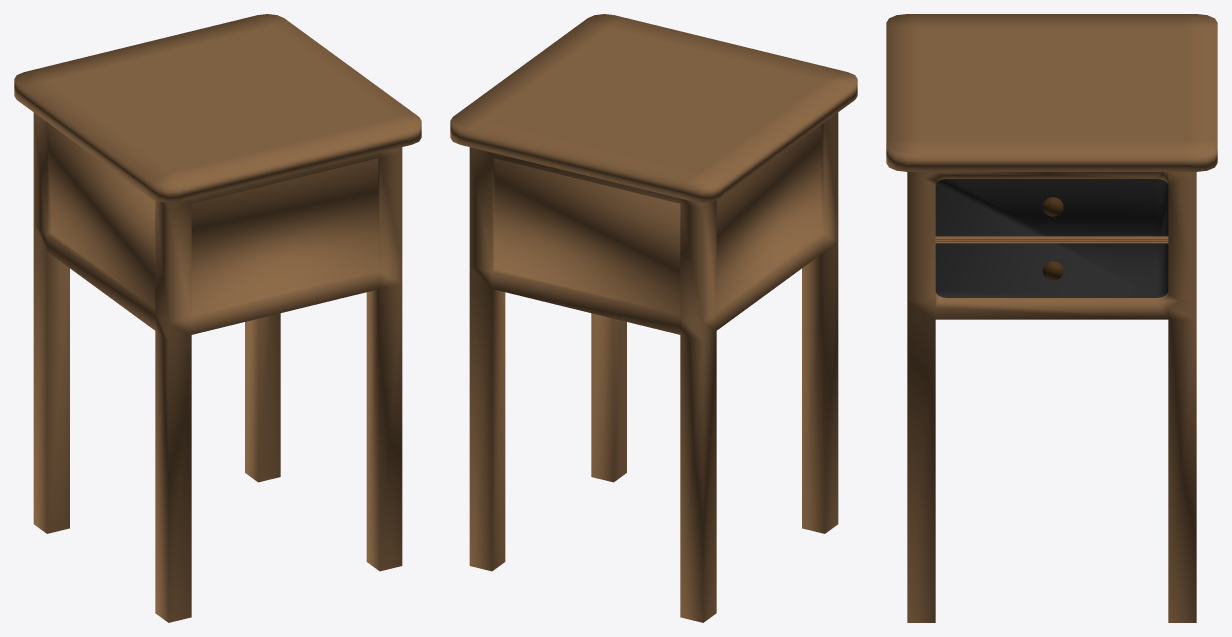
File: finalNightstand.fbx
3 renders of one model, left to right at view 1: azimuth 30°, elevation 25°; view 2: azimuth 150°, elevation 25°; view 3: azimuth 270°, elevation 25°, orthographic. The views are drawn at different scales.
Parts seen in each view (by area): view 1: Cube; view 2: Cube; view 3: Cube.
Boxes of the visible parts, bbox=[...] form: Cube: bbox=[14, 14, 421, 622]; Cube: bbox=[450, 14, 857, 622]; Cube: bbox=[886, 14, 1217, 622].
Bounding box in the file's own units: 34.89 × 55.5 × 34.89.
